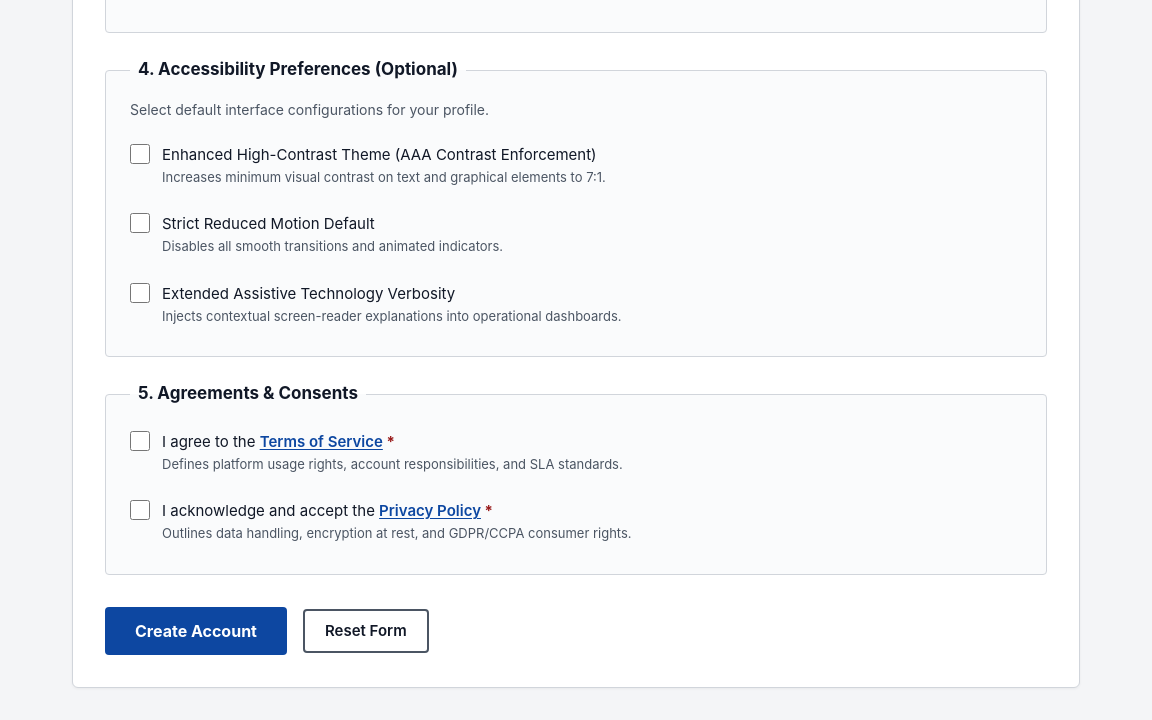
Test case: AccessibleRegistrationForm Component Unit & A11y Suite › opens and closes terms dialog modal with focus restoration
The width and height of the screenshot is (1152, 720).
(page scrolled)
What coordinates should you click on to do the following:
click the button "Terms of Service"
I would click on:
 (321, 441)
Its box is [260,432,383,451].
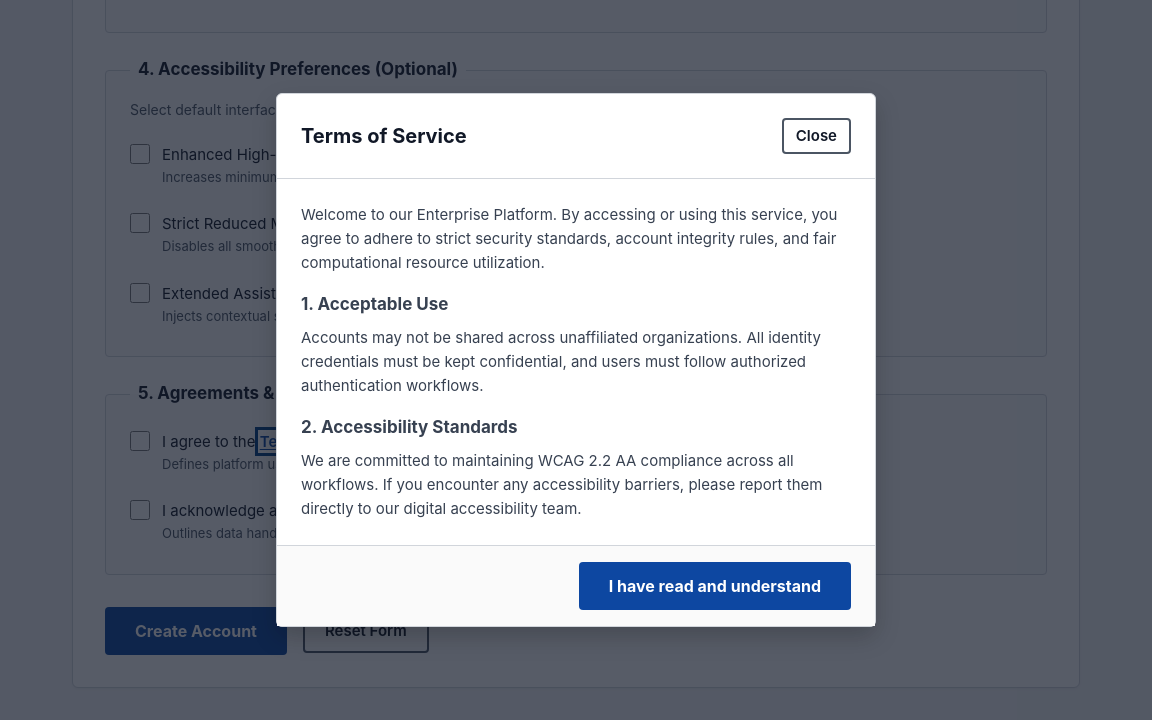
Expected: the dialog "Terms of Service" is shown, [276,93,876,627]
# Close via close button
What coordinates should you click on to do the following:
click the button with aria-label "Close Terms of Service dialog"
I would click on:
 (816, 136)
Its box is [782,118,851,154].
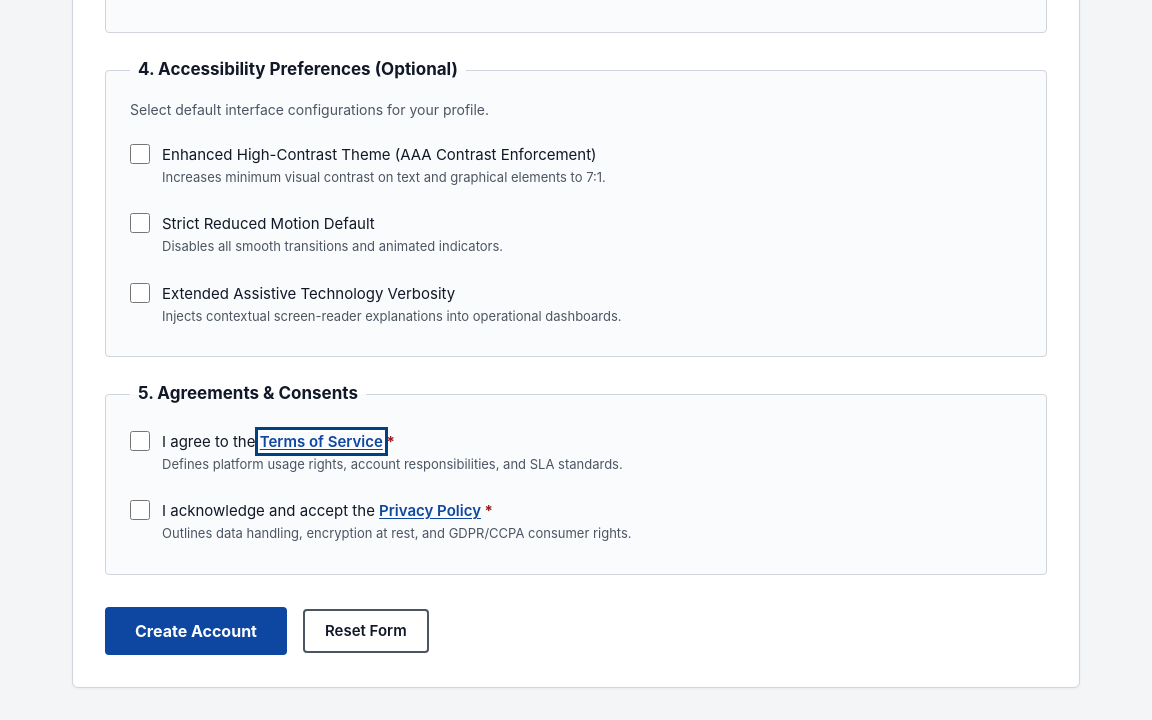
Expected: the dialog is gone
